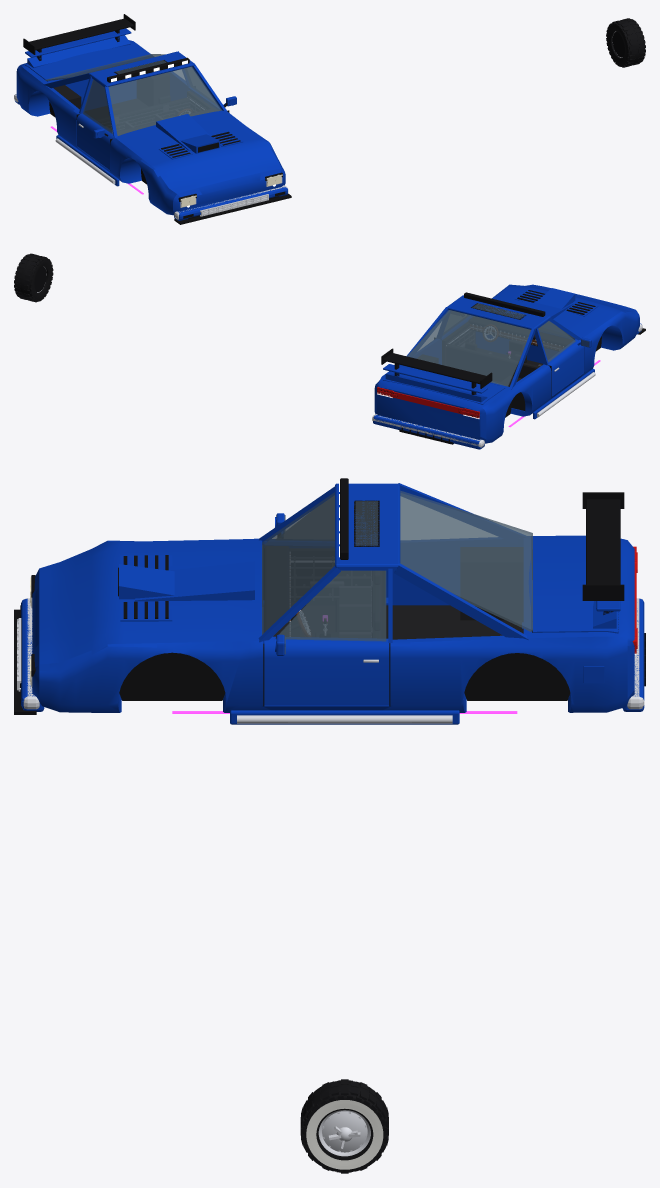
File: KestrelGT.glb
3 renders of one model, top to bottom at view 1: azimuth 30°, elevation 25°; view 2: azimuth 150°, elevation 25°; view 3: azimuth 270°, elevation 25°, orthographic. The views are drawn at different scales.
Visible parts, largest first — view 1: KestrelGT_PanelHood, KestrelGT_Body, KestrelGT_Glass, KestrelGT_PanelSideR, KestrelGT_Lid, KestrelGT_Carpet, KestrelGT_OptSpoilerGTDark, KestrelGT_PanelDoorR, KestrelGTWheel_TireOffroadRubber, KestrelGT_PanelRoof, KestrelGT_RoofBody, KestrelGT_OptSpoilerDucktailBody (+13 smaller); view 2: KestrelGT_Body, KestrelGT_RoofGlass__Lid, KestrelGT_PanelSideR, KestrelGT_PanelHood, KestrelGT_OptSpoilerGTDark, KestrelGT_PanelDoorR, KestrelGT_PanelRoof, KestrelGT_RoofBody, KestrelGT_OptSeatsDiamondSeat, KestrelGTWheel_TireOffroadRubber, KestrelGT_RoofGlass__WinDoorR, KestrelGT_OptDashBilletDash (+20 smaller); view 3: KestrelGT_PanelSideL, KestrelGT_PanelHood, KestrelGT_RoofGlass__Lid, KestrelGT_Body, KestrelGT_PanelDoorL, KestrelGT_Under, KestrelGT_Carpet, KestrelGT_Glass, KestrelGT_RoofGlass__WinDoorL, KestrelGT_RoofBody, KestrelGT_Lid, KestrelGT_OptSpoilerGTDark (+15 smaller).
Part boxes in pixels (x1,y1,x2,y2): KestrelGT_PanelHood: (115, 110, 282, 197); KestrelGT_Body: (21, 40, 285, 215); KestrelGT_Glass: (108, 66, 221, 135); KestrelGT_PanelSideR: (16, 65, 174, 214); KestrelGT_Lid: (25, 42, 148, 81); KestrelGT_Carpet: (53, 73, 169, 118); KestrelGT_OptSpoilerGTDark: (23, 14, 135, 60); KestrelGT_PanelDoorR: (76, 113, 113, 169); KestrelGTWheel_TireOffroadRubber: (606, 18, 645, 67); KestrelGT_PanelRoof: (89, 51, 194, 86); KestrelGT_RoofBody: (43, 51, 226, 138); KestrelGT_OptSpoilerDucktailBody: (27, 35, 130, 67); KestrelGT_Body: (375, 284, 622, 441); KestrelGT_RoofGlass__Lid: (407, 310, 530, 386); KestrelGT_PanelSideR: (480, 311, 639, 443); KestrelGT_PanelHood: (492, 284, 637, 338); KestrelGT_OptSpoilerGTDark: (381, 348, 492, 394); KestrelGT_PanelDoorR: (548, 339, 584, 395); KestrelGT_PanelRoof: (447, 295, 550, 329); KestrelGT_RoofBody: (406, 307, 581, 389); KestrelGT_OptSeatsDiamondSeat: (447, 344, 540, 381); KestrelGTWheel_TireOffroadRubber: (14, 253, 53, 302); KestrelGT_RoofGlass__WinDoorR: (538, 321, 575, 362); KestrelGT_OptDashBilletDash: (469, 317, 572, 362); KestrelGT_PanelSideL: (39, 636, 634, 712); KestrelGT_PanelHood: (32, 538, 260, 671); KestrelGT_RoofGlass__Lid: (400, 491, 532, 631); KestrelGT_Body: (32, 535, 634, 712); KestrelGT_PanelDoorL: (264, 636, 389, 705); KestrelGT_Under: (119, 619, 618, 700); KestrelGT_Carpet: (300, 547, 523, 643); KestrelGT_Glass: (262, 492, 334, 634); KestrelGT_RoofGlass__WinDoorL: (275, 570, 386, 641); KestrelGT_RoofBody: (258, 483, 528, 643); KestrelGT_Lid: (533, 538, 618, 633); KestrelGT_OptSpoilerGTDark: (582, 492, 624, 614).
Bounding box in the file's own units: 35.2 × 6.77 × 18.25.
